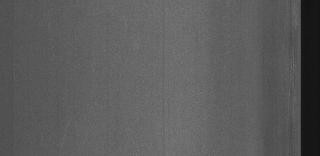silk spot: (286, 10, 298, 122)
